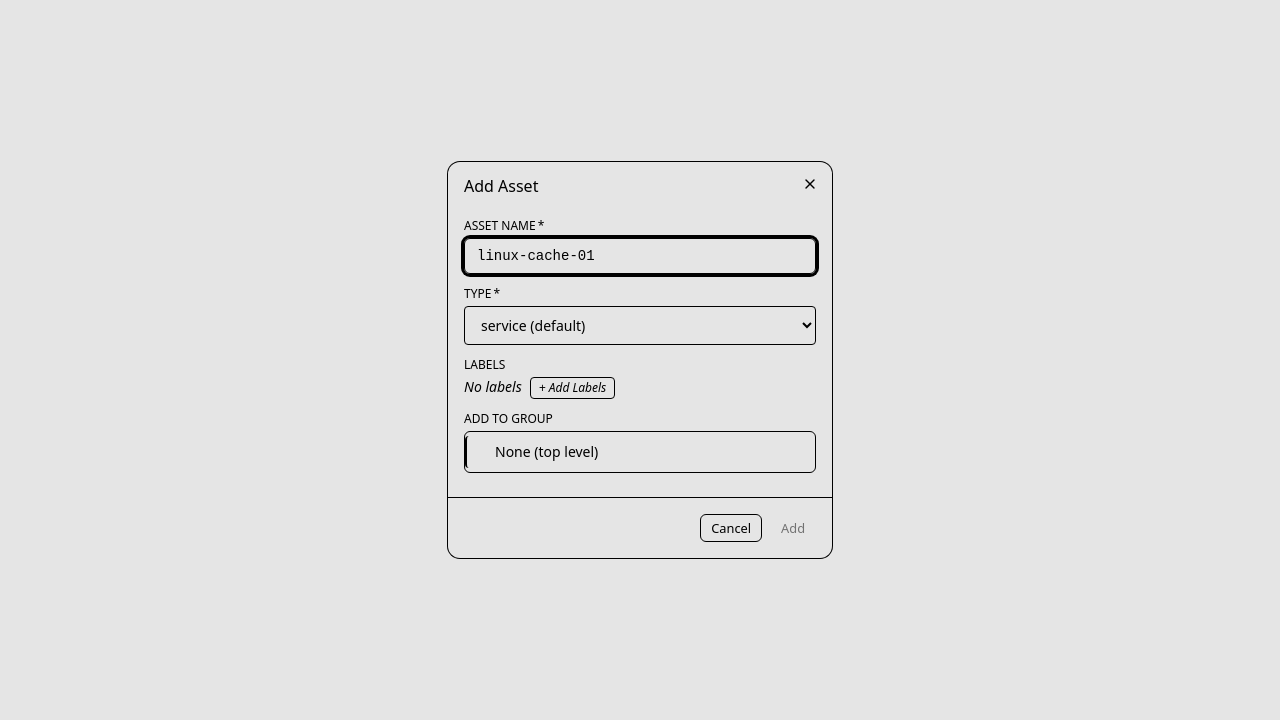
AssetCreateDialog › shows validation error when name contains uppercase or special chars
The width and height of the screenshot is (1280, 720).
In the field with placeholder "linux-cache-01": {"x": 640, "y": 256} [464, 238, 816, 274], type "Bad Name!"
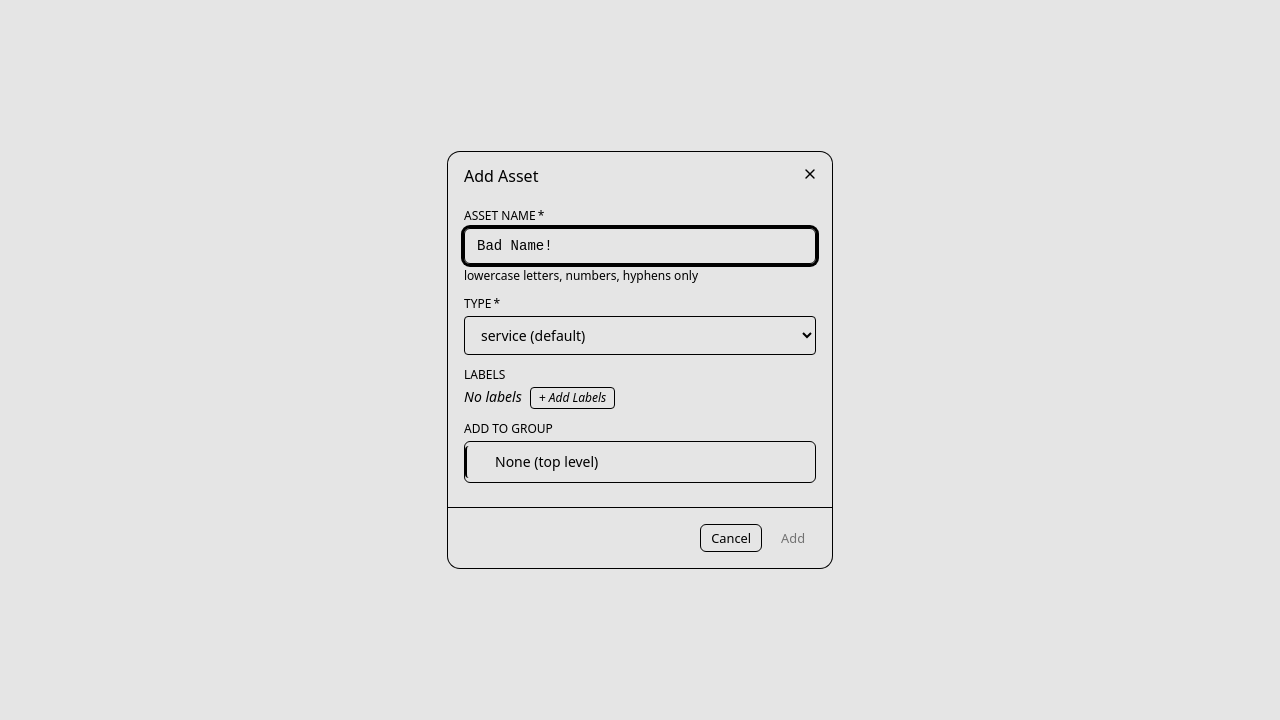
expect the text "lowercase letters, numbers, hyphens only" is shown: met, box [464, 267, 698, 284]
